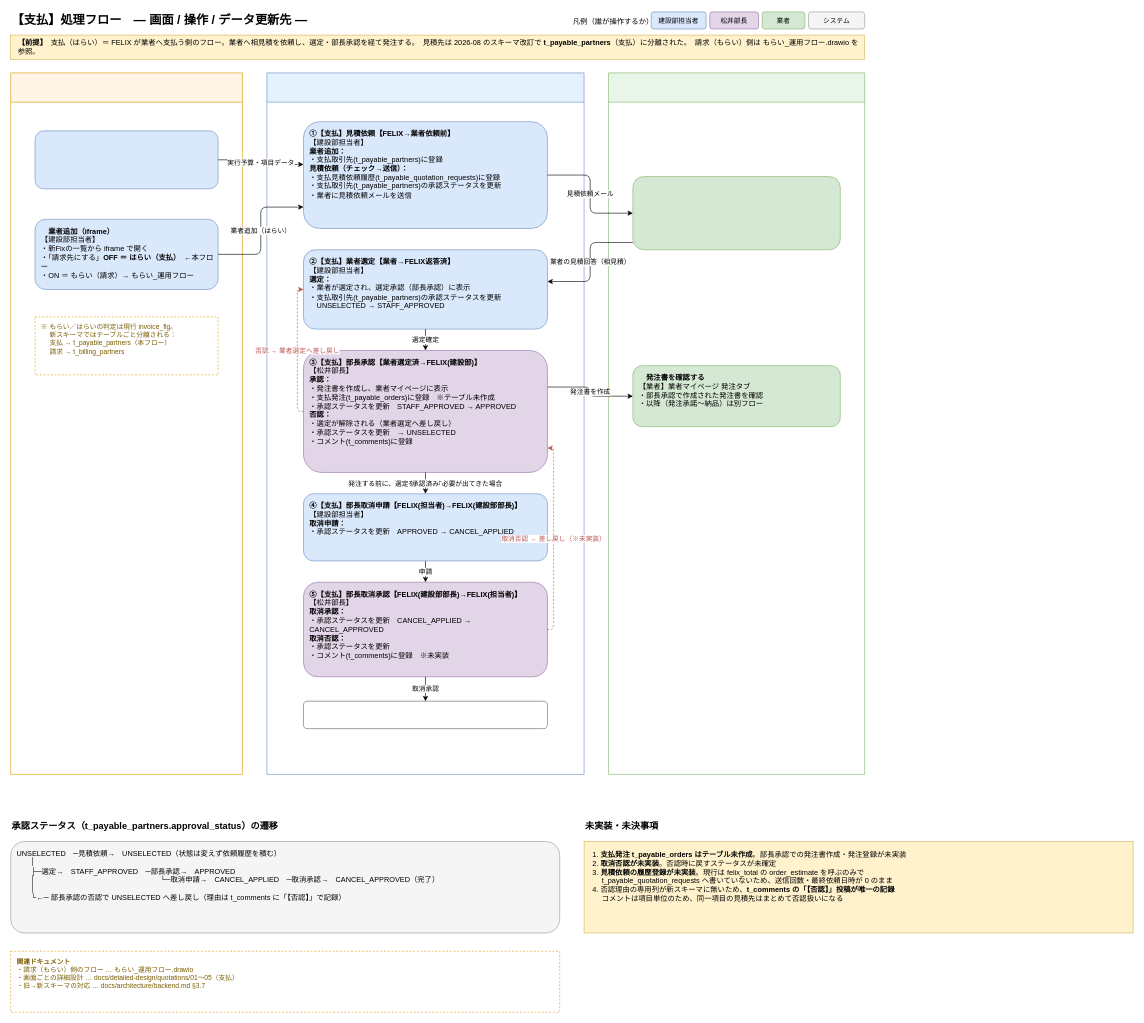
Image size: 1144x1023. Some labels were removed from this diagram. Here are the shapes that lost their labels. From the top down, the box of each, then its label:
(34, 130, 218, 189): 実行予算をつくる 【建設部担当者】 ・実行予算と項目（費用）を作成 ・見積依頼ファイルをドライブに格納
(632, 176, 840, 250): 見積を回答する 【業者】業者マイページ 見積タブ ・見積依頼メールのリンクから開く ・相見積の金額を入力 → 新Fixの業者選定に「回答あり」で表示
(10, 72, 242, 774): 現行Fix（felix_total） 実行予算画面
(266, 72, 584, 774): 新Fix（new_felix_total） 見積管理【支払】
(608, 72, 865, 774): 業者マイページ（felix_total）
(303, 701, 547, 729): 完了（CANCEL_APPROVED） 以降どの画面にも出ない
